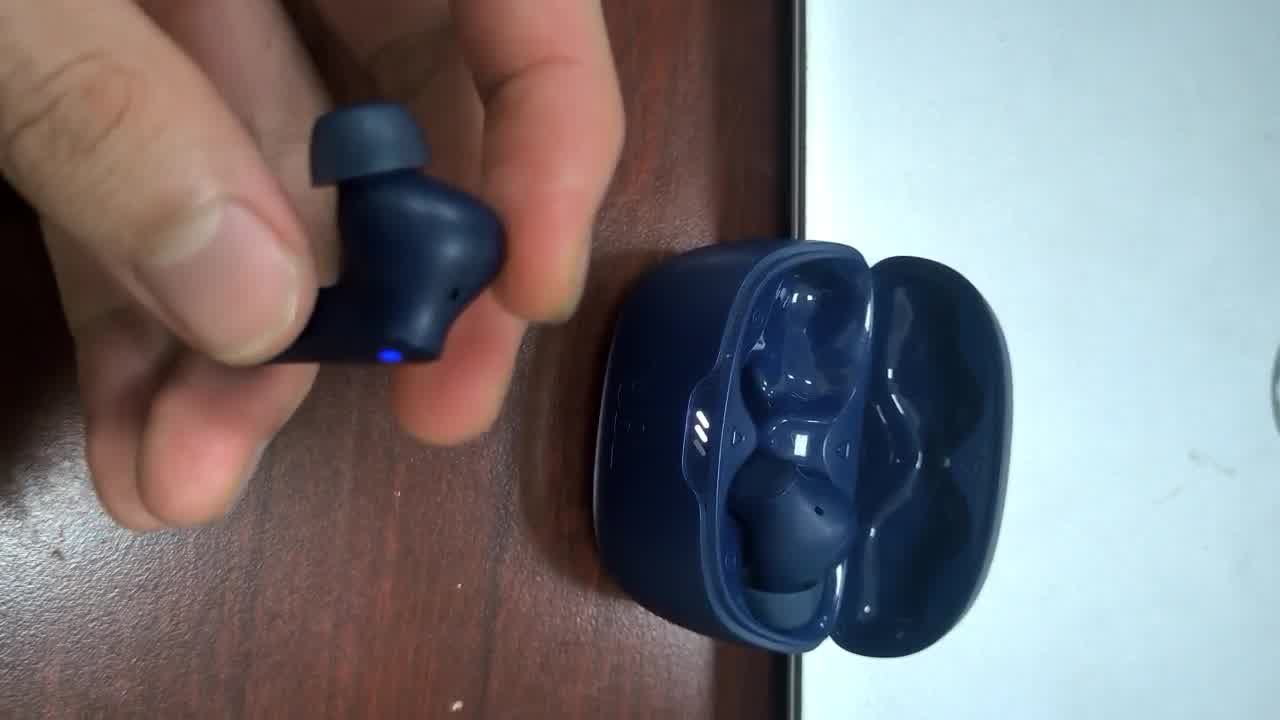Case: (592, 239, 1009, 655)
Earbud: (272, 103, 503, 362), (728, 453, 855, 592)
Empty_Slot: (729, 248, 870, 452)
